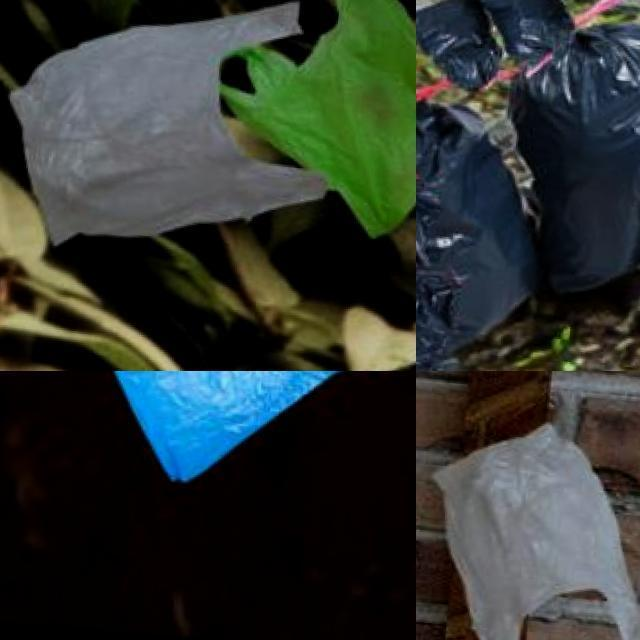waste: (0, 0, 348, 271), (27, 371, 416, 507), (215, 0, 416, 246), (431, 416, 640, 640), (495, 14, 640, 305), (416, 91, 551, 345), (416, 0, 501, 91)
